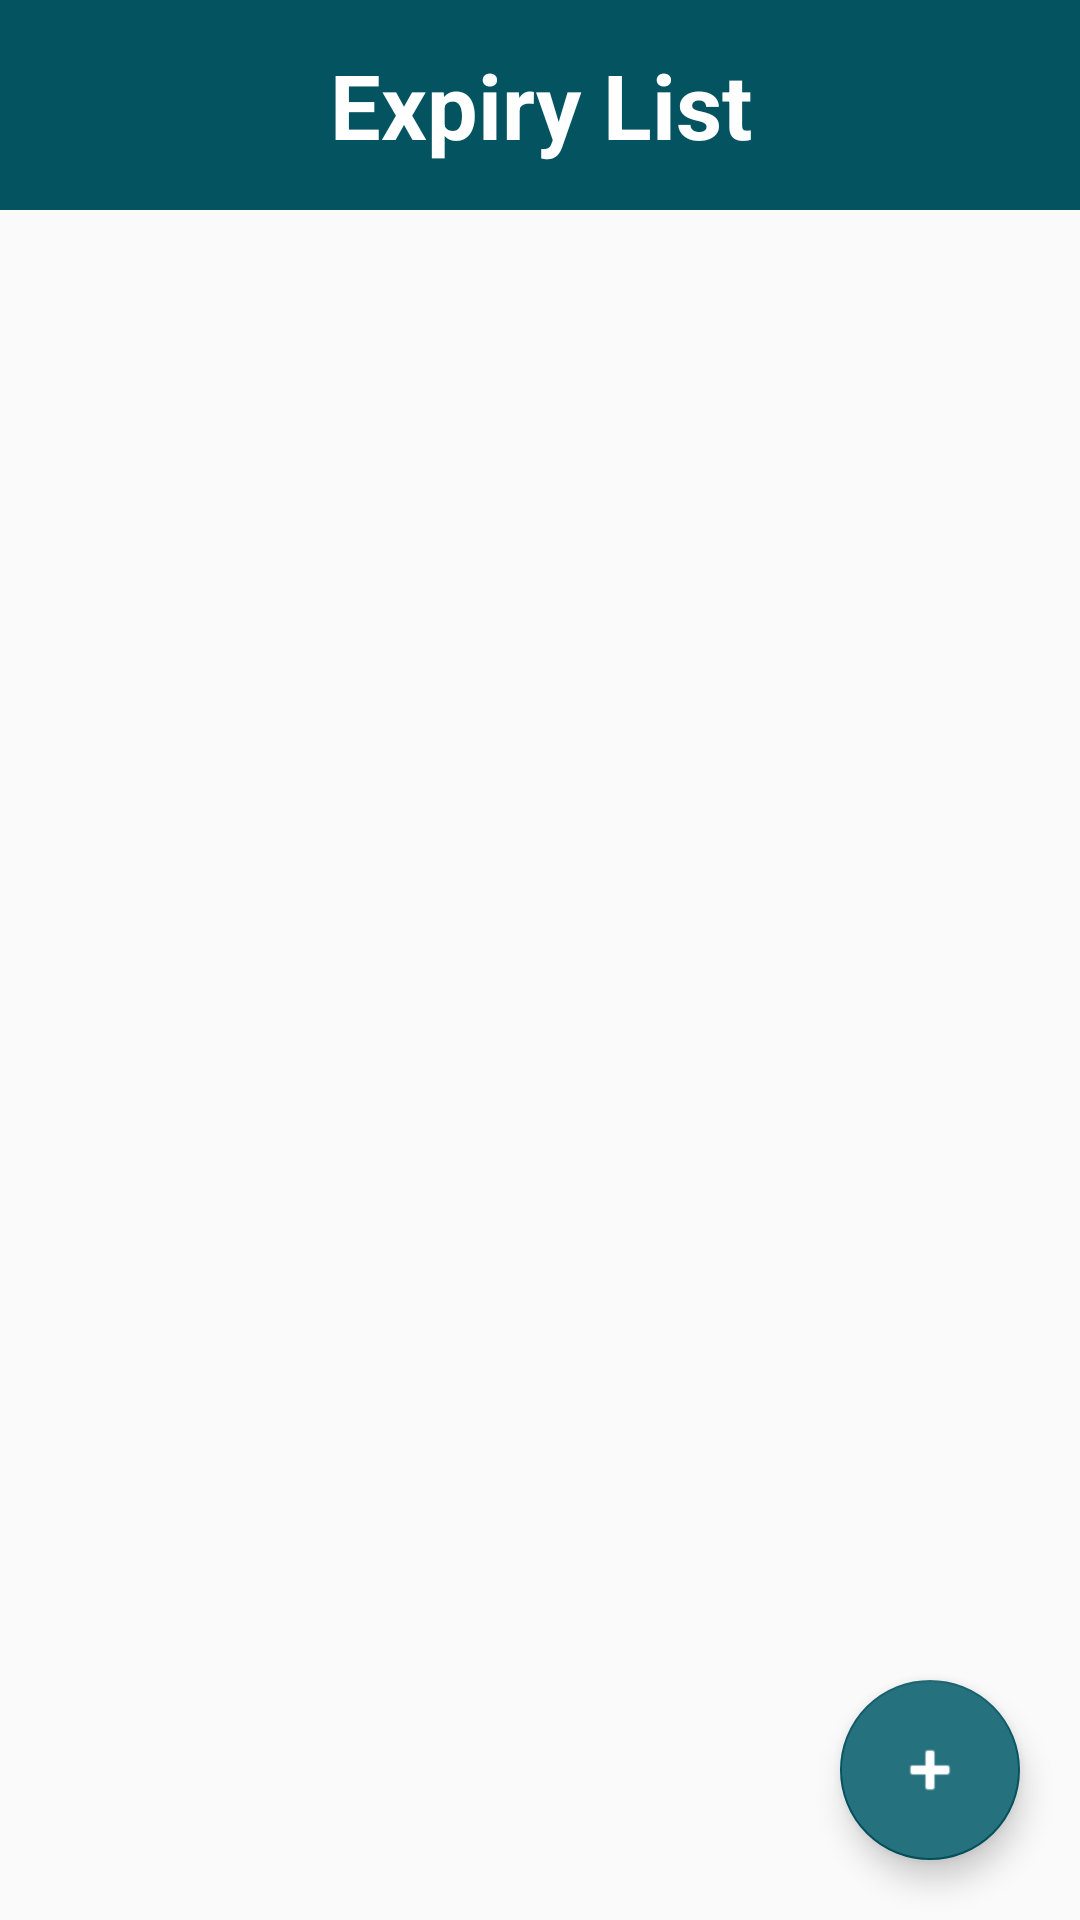

Where icons sit on this 1080px×1920px app screen, as bbox=[x1, y1, x2, y2]:
add: bbox=[840, 1680, 1020, 1860]
